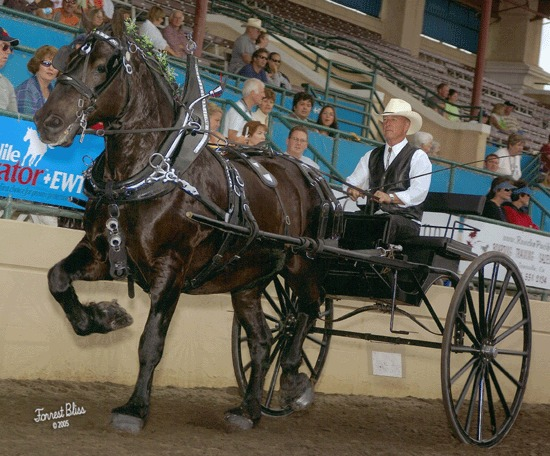horse: (33, 2, 346, 441)
